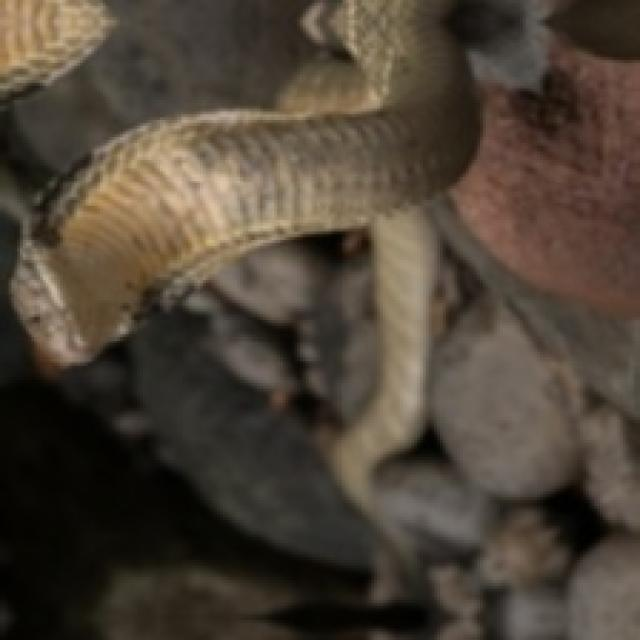king cobra: (11, 0, 478, 508)
